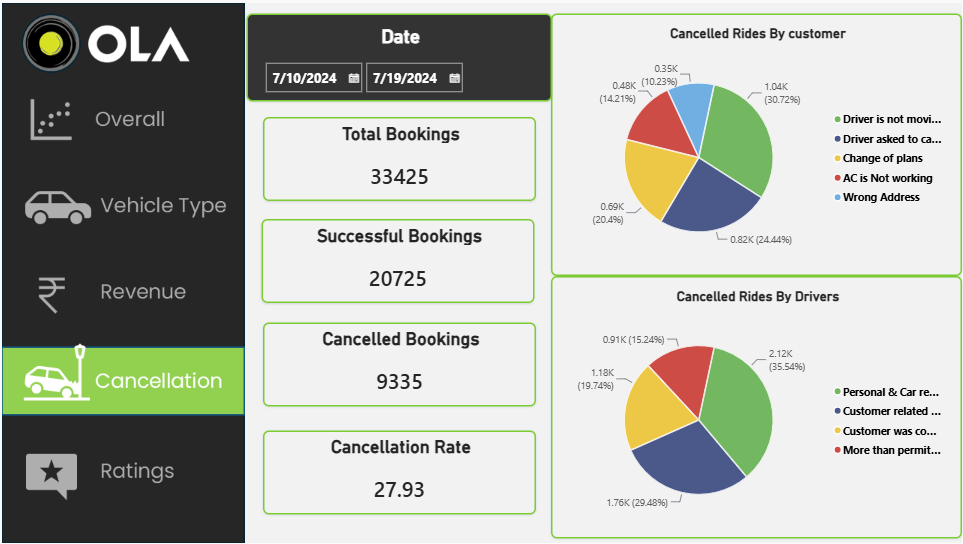

This screenshot's page, from the dashboard's own definition file:
{"tool":"powerbi","page":{"name":"Cancellation","canvas":[1920,1080],"ordinal":3},"visuals":[{"type":"actionButton","box":[320,402,324,84],"z":0},{"type":"actionButton","box":[320,520,324,84],"z":1000},{"type":"actionButton","box":[320,634,324,90],"z":2000},{"type":"actionButton","box":[320,744,324,114],"z":3000},{"type":"actionButton","box":[320,294,324,86],"z":4000},{"type":"pieChart","title":"Cancelled Rides By customer","fields":{"Category":["July.Canceled_Rides_by_Customer"],"Y":["CountNonNull(July.Canceled_Rides_by_Customer)"]},"box":[1052.5,190,548,350],"z":5000},{"type":"pieChart","title":"Cancelled Rides By Drivers","fields":{"Category":["July.Canceled_Rides_by_Driver"],"Y":["CountNonNull(July.Canceled_Rides_by_Driver)"]},"box":[1052.5,540,548,350],"z":6000},{"type":"slicer","title":"Date","fields":{"Values":["July.Date"]},"box":[645,190,407.5,117.5],"z":7000},{"type":"card","title":"Total Bookings","fields":{"Values":["Count(July.Booking_ID)"]},"box":[668,328,364,112],"z":8000},{"type":"card","title":"Successful Bookings","fields":{"Values":["CountNonNull(July.Booking_ID)"]},"box":[666,464,364,112],"z":9000},{"type":"card","title":"Cancelled Bookings","fields":{"Values":["CountNonNull(July.Booking_ID)"]},"box":[667.5,602.5,364,112],"z":10000},{"type":"card","title":"Cancellation Rate","fields":{"Values":["July.canceledpercentage"]},"box":[667.5,745,364,112],"z":11000}]}

Visuals, with their boxes in screenshot pixels (x1, y1, x2, y2), scaled from the page's 1920x1080 canvas onto the 963x544 screenshot:
actionButton: crop(160, 202, 323, 245)
actionButton: crop(160, 262, 323, 304)
actionButton: crop(160, 319, 323, 365)
actionButton: crop(160, 375, 323, 432)
actionButton: crop(160, 148, 323, 191)
"Cancelled Rides By customer" pieChart: crop(528, 96, 803, 272)
"Cancelled Rides By Drivers" pieChart: crop(528, 272, 803, 448)
"Date" slicer: crop(324, 96, 528, 155)
"Total Bookings" card: crop(335, 165, 518, 222)
"Successful Bookings" card: crop(334, 234, 517, 290)
"Cancelled Bookings" card: crop(335, 303, 517, 360)
"Cancellation Rate" card: crop(335, 375, 517, 432)
